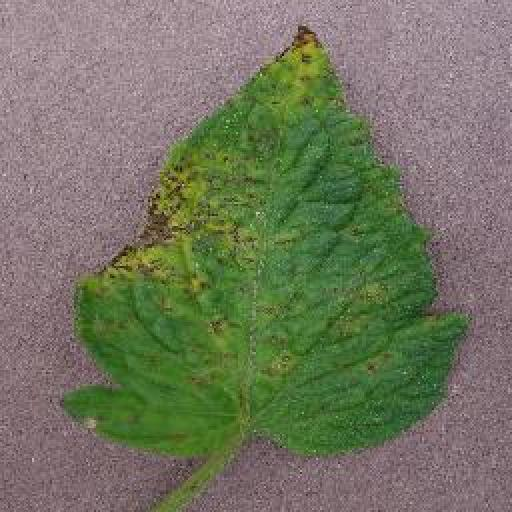disease_tomato: (54, 24, 473, 456)
